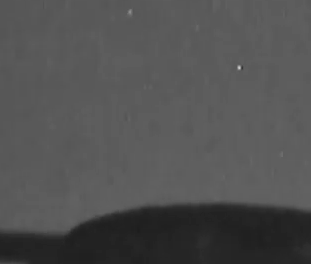Target: (129, 10, 240, 70)
